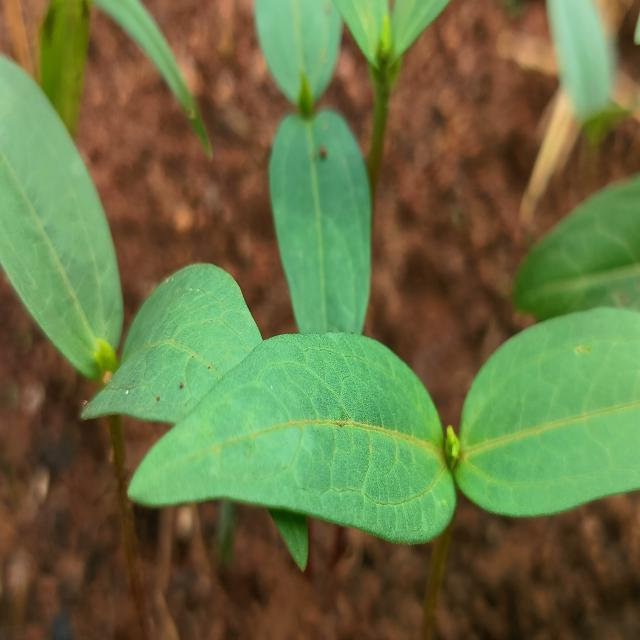Black gram_healthy: (80, 264, 308, 569), (126, 332, 456, 539), (269, 112, 373, 446)
